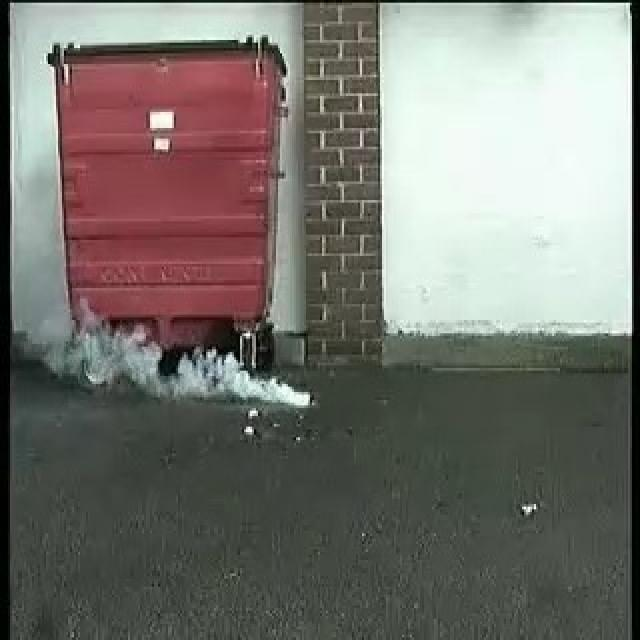smoke: (60, 312, 312, 407)
